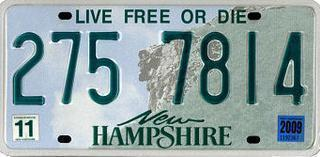placa de veiculo: (6, 5, 311, 151)
